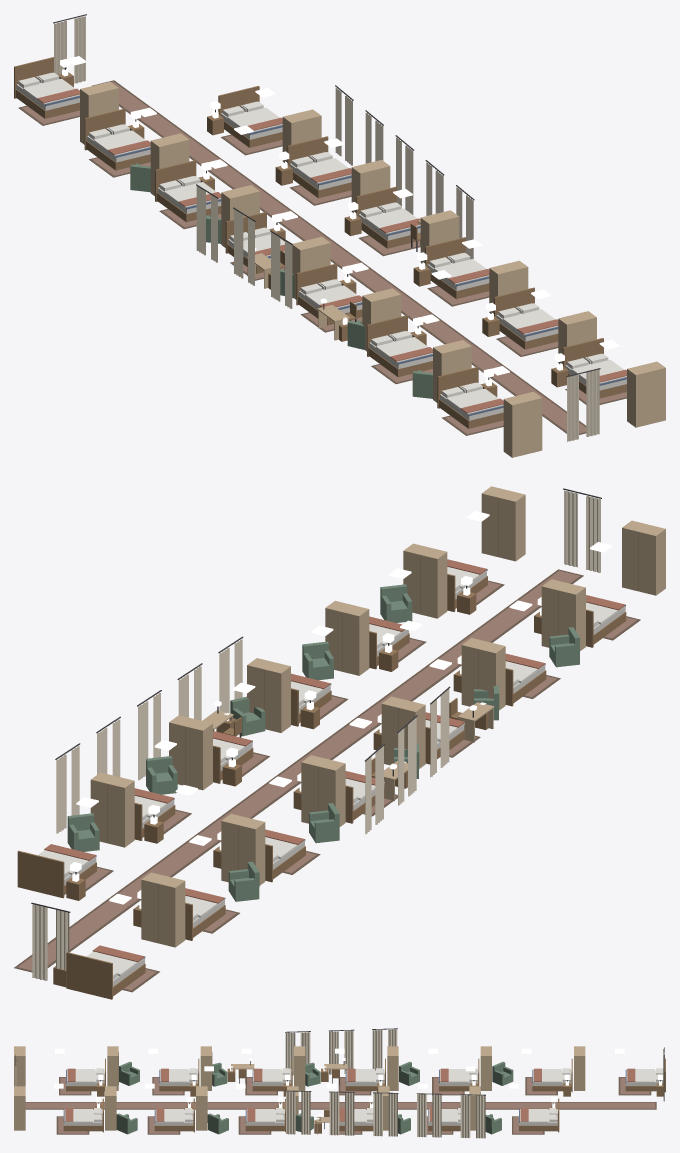
The model's file is fine-s3.glb.
3 renders of one model, top to bottom at view 1: azimuth 30°, elevation 25°; view 2: azimuth 150°, elevation 25°; view 3: azimuth 270°, elevation 25°, orthographic. The views are drawn at different scales.
Parts seen in each view (by area): view 1: soft-s3, dresser.038, dresser.031, bed-frame.038, bed-frame.033, bed-frame.037, bed-frame.032, bed-frame.027, bed-frame.030, bed-frame.029, bed-frame.026, bed-frame.028 (+15 smaller); view 2: soft-s3, dresser.032, dresser.031, dresser.038, dresser.029, dresser.030, dresser.026, dresser.027, dresser.028, dresser.036, dresser.037, dresser.034 (+16 smaller); view 3: soft-s3, dresser.029, dresser.030, dresser.031, dresser.032, dresser.033, dresser.034, dresser.035, dresser.036, bed-frame.031, bed-frame.026, bed-frame.030 (+23 smaller).
Part boxes in pixels (x1,y1,x2,y2): soft-s3: (18, 14, 626, 441); dresser.038: (503, 391, 542, 457); dresser.031: (627, 361, 665, 427); bed-frame.038: (437, 367, 503, 428); bed-frame.033: (84, 108, 150, 170); bed-frame.037: (367, 315, 432, 377); bed-frame.032: (14, 57, 79, 118); bed-frame.027: (287, 136, 351, 198); bed-frame.030: (494, 287, 558, 349); bed-frame.029: (425, 237, 489, 298); bed-frame.026: (218, 86, 282, 147); bed-frame.028: (356, 186, 420, 248); soft-s3: (14, 488, 640, 992); dresser.032: (141, 872, 185, 947); dresser.031: (481, 486, 525, 561); dresser.038: (622, 520, 665, 595); dresser.029: (325, 600, 369, 675); dresser.030: (403, 543, 447, 618); dresser.026: (90, 772, 134, 847); dresser.027: (169, 715, 212, 790); dresser.028: (247, 658, 290, 732); dresser.036: (461, 638, 505, 710); dresser.037: (541, 579, 585, 650); dresser.034: (301, 755, 345, 826); soft-s3: (15, 1028, 664, 1138); dresser.029: (196, 1086, 207, 1130); dresser.030: (105, 1086, 116, 1130); dresser.031: (14, 1086, 25, 1130); dresser.032: (574, 1046, 585, 1090); dresser.033: (480, 1046, 491, 1090); dresser.034: (387, 1046, 398, 1090); dresser.035: (294, 1046, 305, 1090); dresser.036: (200, 1046, 212, 1090); bed-frame.031: (63, 1098, 103, 1132); bed-frame.026: (519, 1098, 559, 1132); bed-frame.030: (154, 1098, 194, 1132).
Bounding box in the file's own units: 8.22 × 2.56 × 34.
